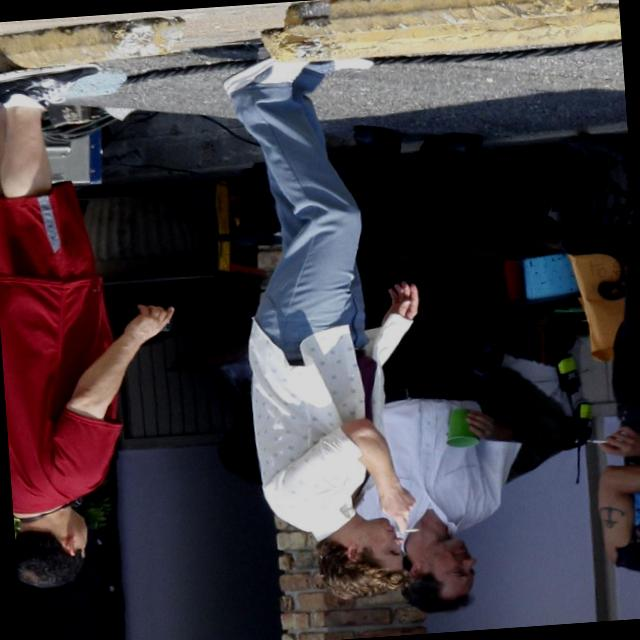cigarette: (388, 520, 428, 540)
